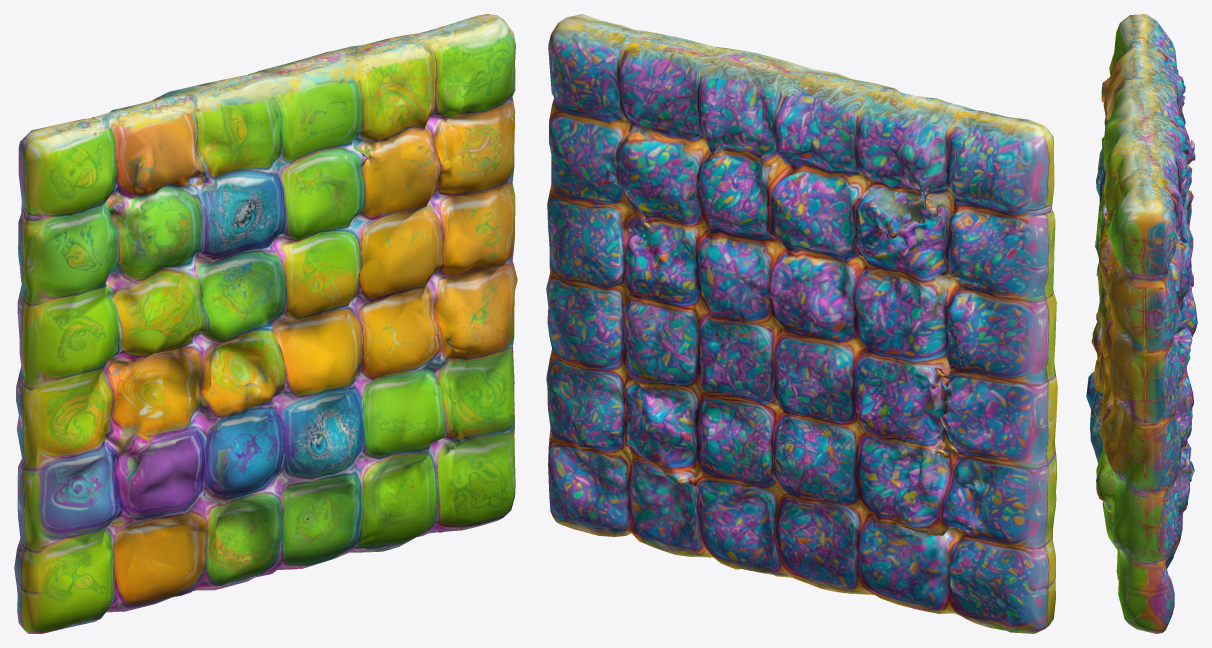
The model's file is platform_for_fun_game_0718230653_refine.fbx.
3 renders of one model, left to right at view 1: azimuth 30°, elevation 25°; view 2: azimuth 150°, elevation 25°; view 3: azimuth 270°, elevation 25°, orthographic. The views are drawn at different scales.
Visible parts, largest first — view 1: Mesh_0; view 2: Mesh_0; view 3: Mesh_0.
Boxes of the visible parts, x1=… form: Mesh_0: x1=14, y1=14, x2=517, y2=633; Mesh_0: x1=546, y1=14, x2=1057, y2=633; Mesh_0: x1=1086, y1=14, x2=1197, y2=633.
Size of the model in its own units: 120 by 117 by 27.42.
Materials: 1 (1 with a texture image).
